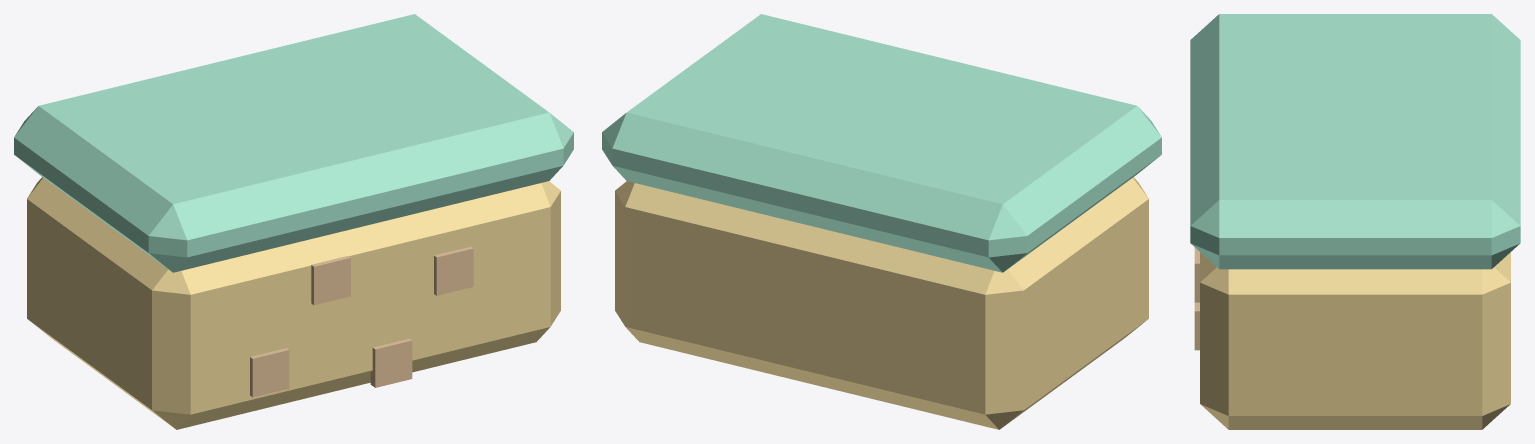
Rendered from CleanACat_Tool_Sponge.fbx.
3 renders of one model, left to right at view 1: azimuth 30°, elevation 25°; view 2: azimuth 150°, elevation 25°; view 3: azimuth 270°, elevation 25°, orthographic.
Visible parts, largest first — view 1: CleanACat_Tool_Sponge; view 2: CleanACat_Tool_Sponge; view 3: CleanACat_Tool_Sponge.
Boxes of the visible parts, x1=… form: CleanACat_Tool_Sponge: x1=14, y1=14, x2=573, y2=429; CleanACat_Tool_Sponge: x1=602, y1=14, x2=1161, y2=429; CleanACat_Tool_Sponge: x1=1190, y1=14, x2=1520, y2=429.
Size of the model in its own units: 1.04 by 0.54 by 0.69.
Materials: 1 (1 with a texture image).
